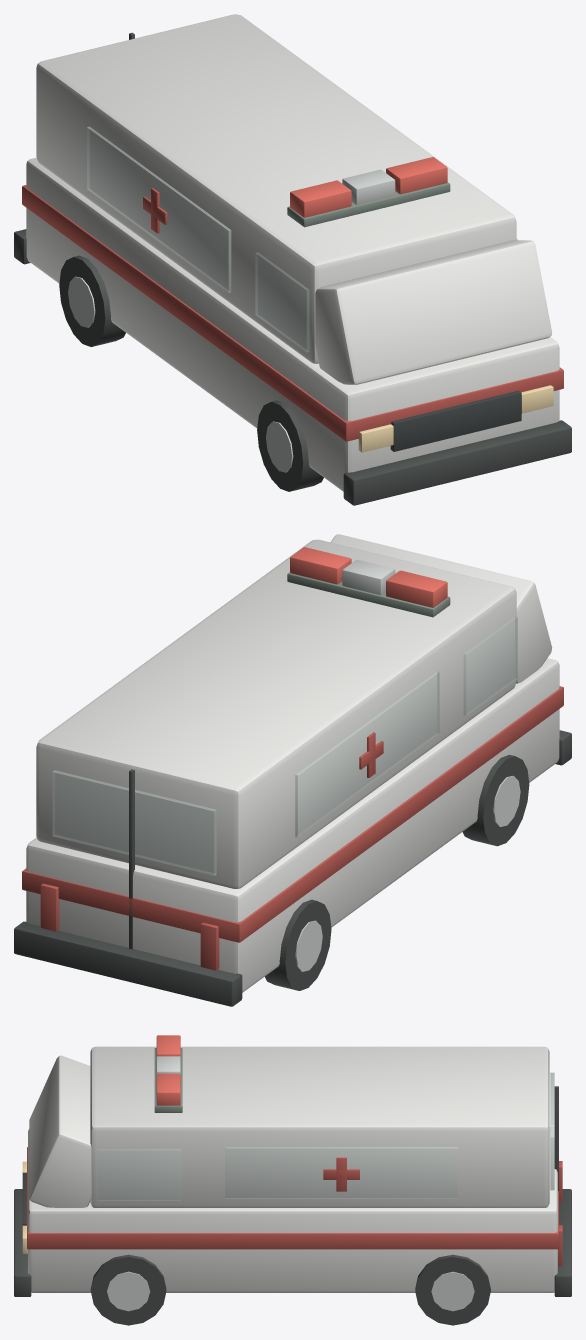
File: CTCC_PROP_VintageAmbulance.fbx
The picture shows the model from 3 angles, top to bottom: view 1: azimuth 30°, elevation 25°; view 2: azimuth 150°, elevation 25°; view 3: azimuth 270°, elevation 25°; orthographic projection. The views are drawn at different scales.
Visible parts, largest first — view 1: CTCC_PROP_VintageAmbulance_LOD0; view 2: CTCC_PROP_VintageAmbulance_LOD0; view 3: CTCC_PROP_VintageAmbulance_LOD0.
Boxes of the visible parts, x1,y1,x2,y2 form: CTCC_PROP_VintageAmbulance_LOD0: (14, 14, 571, 505); CTCC_PROP_VintageAmbulance_LOD0: (14, 534, 571, 1006); CTCC_PROP_VintageAmbulance_LOD0: (14, 1035, 571, 1325).
Size of what is drawn, in the model's own units: 2 by 2.21 by 5.16.
